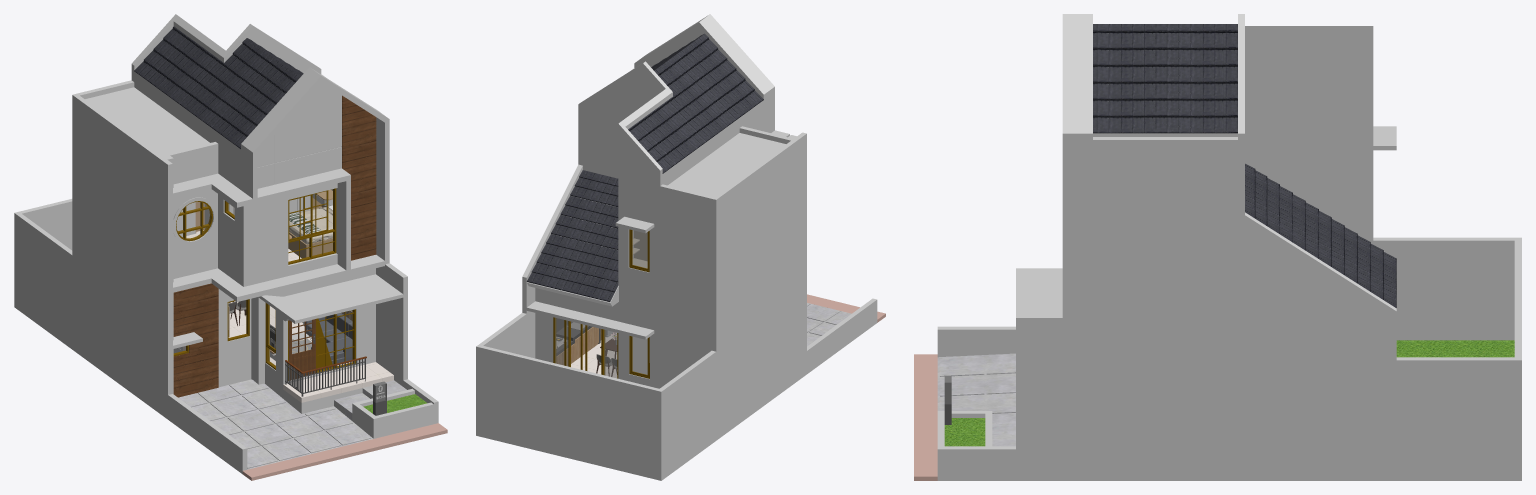
File: okina-61.glb
The picture shows the model from 3 angles, left to right: view 1: azimuth 30°, elevation 25°; view 2: azimuth 150°, elevation 25°; view 3: azimuth 270°, elevation 25°; orthographic projection. The views are drawn at different scales.
Visible parts, largest first — view 1: Mesh1 Group1 Model, Mesh425 Component_24_1 Group204 Group166 Group165 Model, Mesh5 Group5 Model, Mesh59 Group68 Model, Mesh24 Group24 Component_16_1 Group10 Model, Mesh2 Group2 Model, Mesh8 Group8 Model, Mesh31 Group32 Group30 Model, Mesh2758 Tek_alt1 Corner1 Corner_Sofa1 Model, Mesh11 Group13 Group11 Group10 Model, Mesh363 Component_56_1 Group144 Group143 Group142 Model, Mesh204 Group91 Group90 Group89 Group88 Model (+1 smaller); view 2: Mesh1 Group1 Model, Mesh425 Component_24_1 Group204 Group166 Group165 Model, Mesh41 Group45 Group44 Group42 Model, Mesh24 Group24 Component_16_1 Group10 Model, Mesh5 Group5 Model, Mesh2 Group2 Model, Mesh229 Group100 Group88 Model, Mesh8 Group8 Model, Mesh61 Group70 Model, Mesh371 Group145 Group143 Group142 Model; view 3: Mesh1 Group1 Model, Mesh425 Component_24_1 Group204 Group166 Group165 Model, Mesh5 Group5 Model, Mesh7 Group7 Model, Mesh8 Group8 Model.
Part boxes in pixels (x1,y1,x2,y2): Mesh1 Group1 Model: [14, 14, 438, 473]; Mesh425 Component_24_1 Group204 Group166 Group165 Model: [134, 26, 303, 148]; Mesh5 Group5 Model: [178, 379, 406, 469]; Mesh59 Group68 Model: [173, 95, 376, 397]; Mesh24 Group24 Component_16_1 Group10 Model: [173, 188, 355, 380]; Mesh2 Group2 Model: [183, 208, 393, 402]; Mesh8 Group8 Model: [242, 423, 447, 480]; Mesh31 Group32 Group30 Model: [285, 358, 365, 396]; Mesh2758 Tek_alt1 Corner1 Corner_Sofa1 Model: [306, 313, 352, 364]; Mesh11 Group13 Group11 Group10 Model: [288, 319, 315, 380]; Mesh363 Component_56_1 Group144 Group143 Group142 Model: [289, 206, 332, 244]; Mesh204 Group91 Group90 Group89 Group88 Model: [288, 189, 332, 258]; Mesh1 Group1 Model: [476, 14, 877, 480]; Mesh425 Component_24_1 Group204 Group166 Group165 Model: [527, 33, 763, 301]; Mesh41 Group45 Group44 Group42 Model: [555, 230, 647, 378]; Mesh24 Group24 Component_16_1 Group10 Model: [553, 229, 649, 378]; Mesh5 Group5 Model: [807, 303, 851, 346]; Mesh2 Group2 Model: [571, 333, 617, 378]; Mesh229 Group100 Group88 Model: [556, 327, 601, 366]; Mesh8 Group8 Model: [807, 294, 885, 322]; Mesh61 Group70 Model: [556, 318, 600, 356]; Mesh371 Group145 Group143 Group142 Model: [632, 230, 647, 268]; Mesh1 Group1 Model: [937, 14, 1521, 480]; Mesh425 Component_24_1 Group204 Group166 Group165 Model: [1093, 24, 1396, 307]; Mesh5 Group5 Model: [937, 353, 1015, 446]; Mesh7 Group7 Model: [944, 340, 1514, 446]; Mesh8 Group8 Model: [914, 354, 937, 480].
Bounding box in the file's own units: 6.2 × 10.01 × 13.
Materials: 102 (11 with a texture image).
